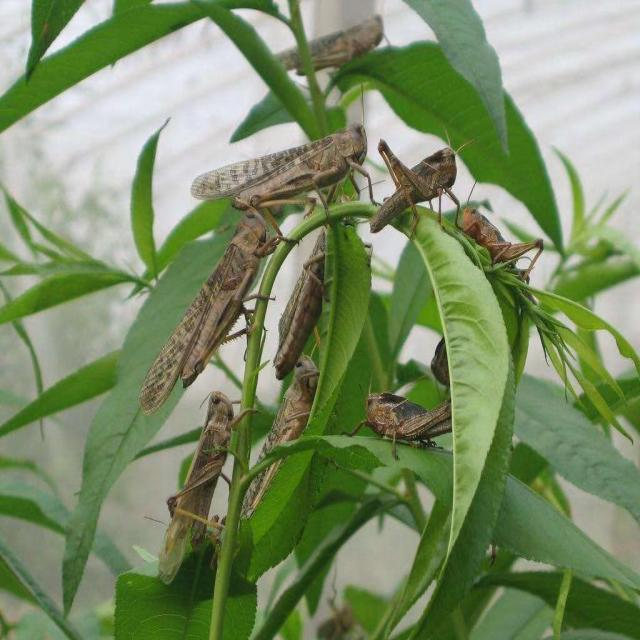ZhaMeng: (133, 197, 286, 421), (150, 379, 244, 587), (235, 345, 337, 520), (191, 121, 374, 212), (369, 114, 474, 242), (260, 15, 396, 88), (453, 190, 543, 288)
